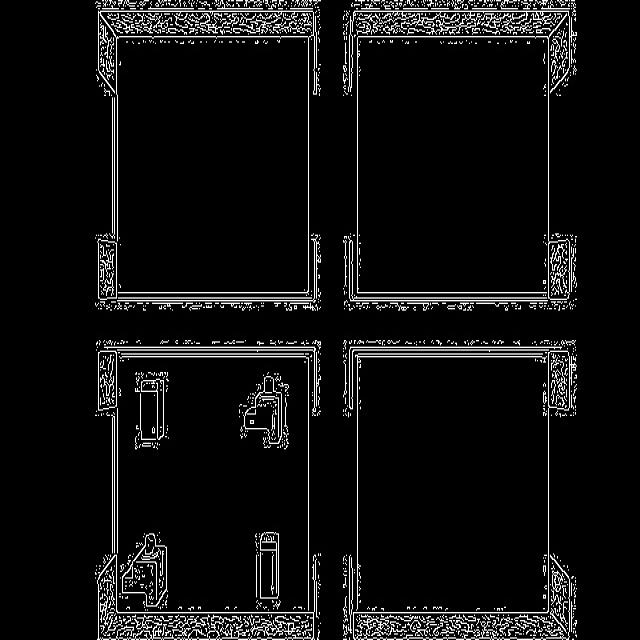Battery: (119, 533, 168, 608), (136, 374, 166, 448), (257, 531, 281, 604)
Sensor: (239, 373, 289, 448)
